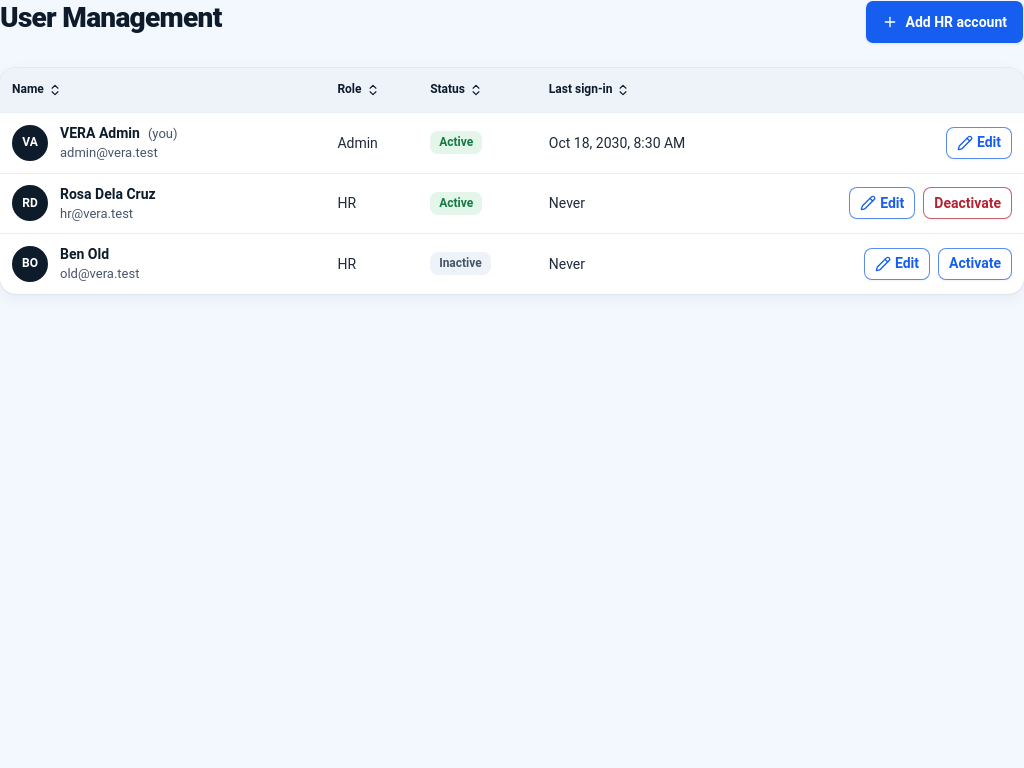
Add HR account › a 409 (email taken) is shown in the dialog
This screenshot has width=1024, height=768.
Click the button "Add HR account".
click(944, 22)  # box [864,0,1023,44]
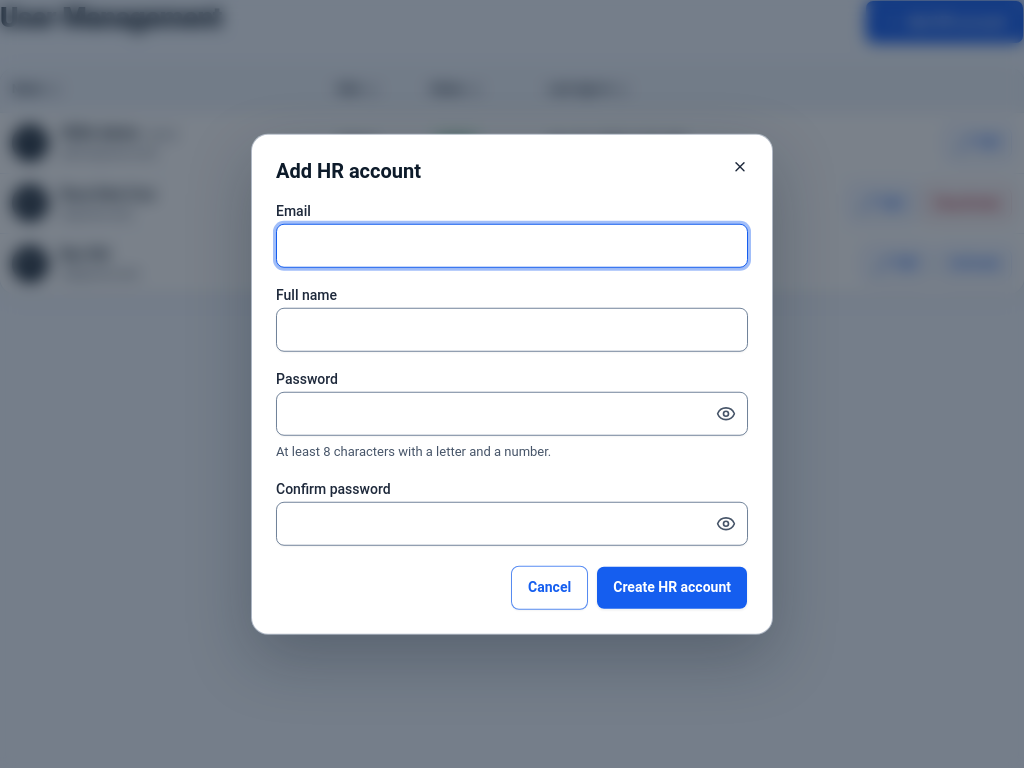
Type "hr@vera.test" into the field labelled "Email".
click(512, 246); type("hr@vera.test")  # box [276,224,748,268]
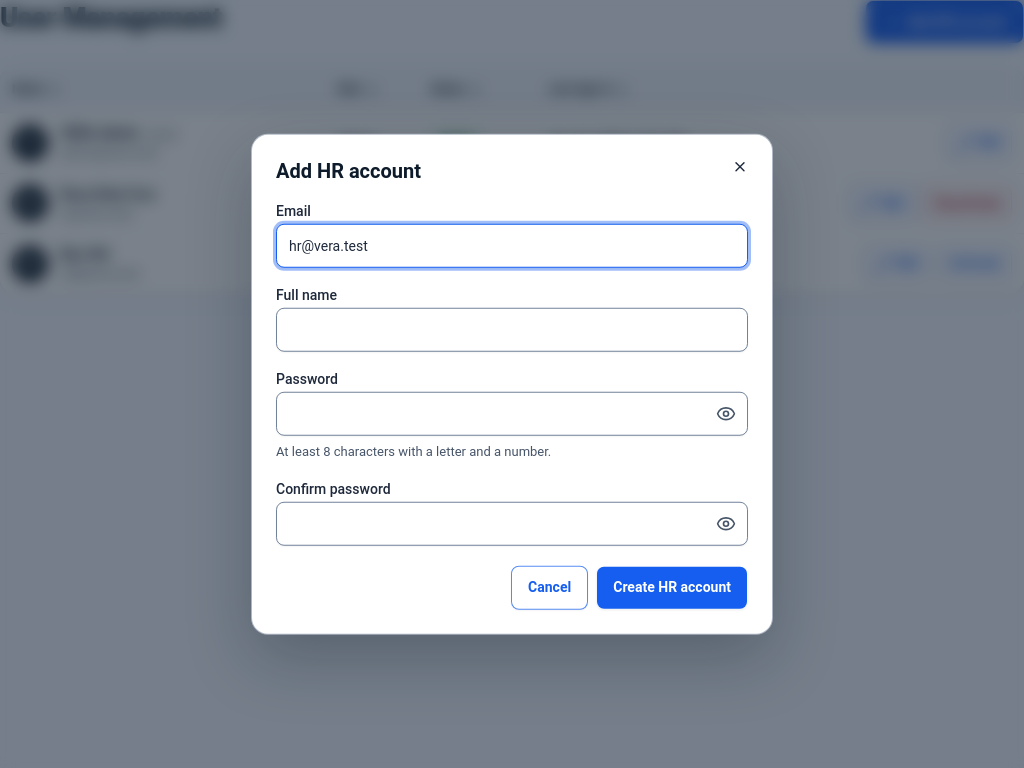
Type "Dup" into the field labelled "Full name".
click(512, 330); type("Dup")  # box [276,308,748,352]
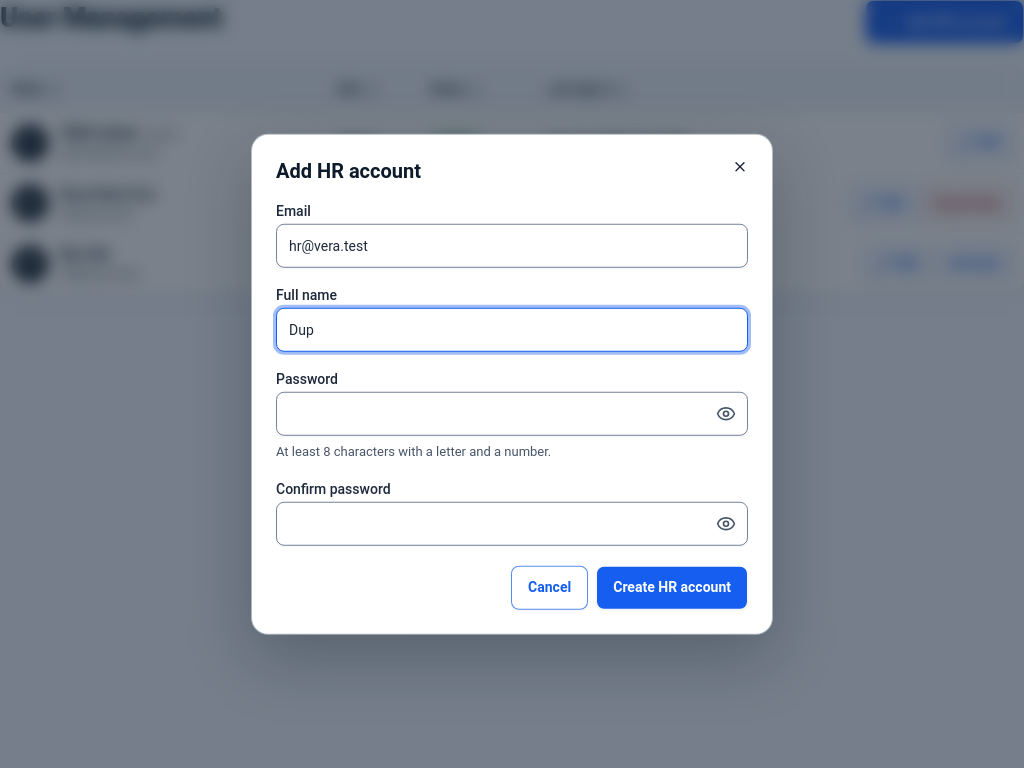
Type "Temp1234" into the password field labelled "Password".
click(512, 414); type("Temp1234")  # box [276,392,748,436]
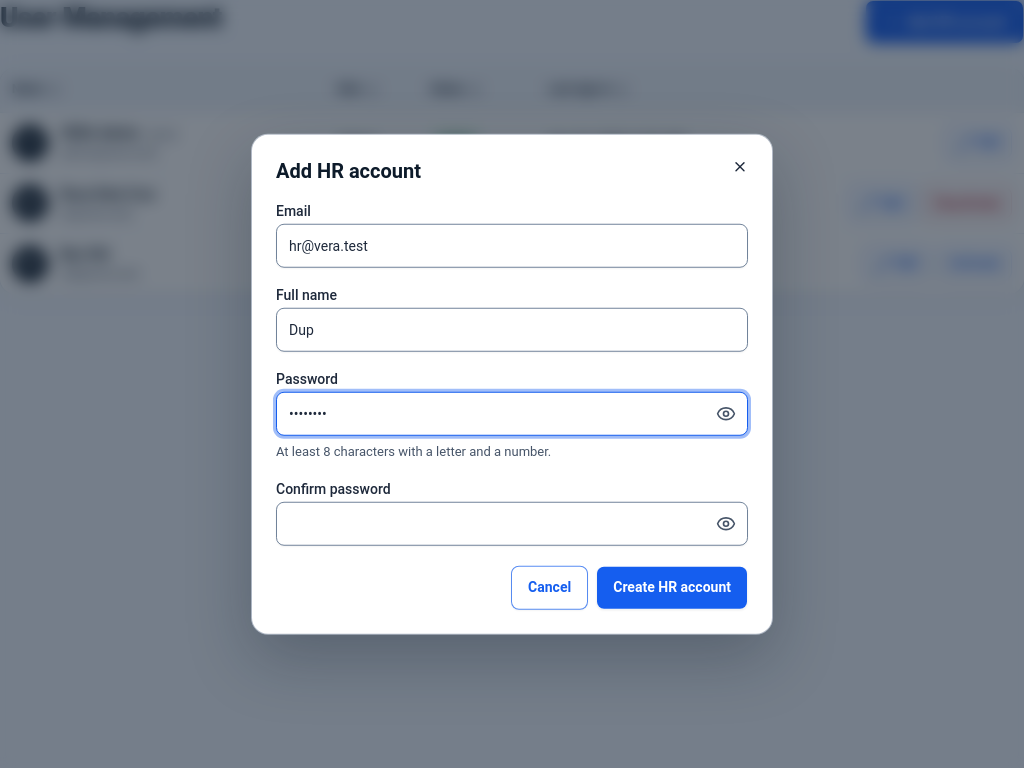
Type "Temp1234" into the password field labelled "Confirm password".
click(512, 523); type("Temp1234")  # box [276,501,748,545]
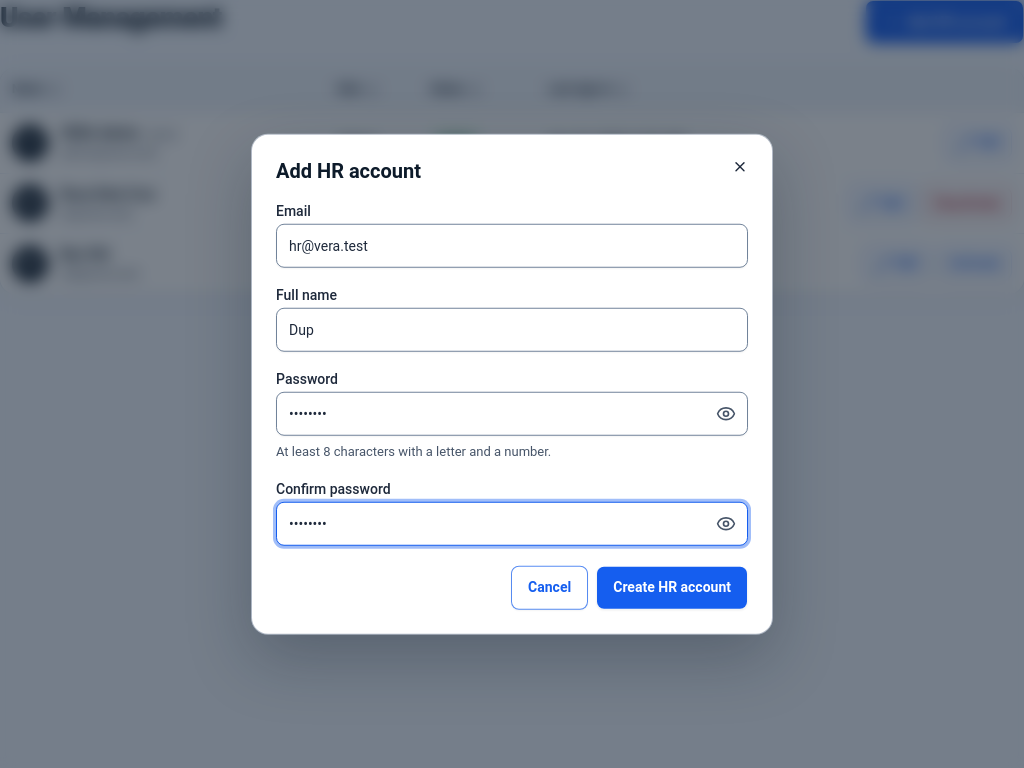
Click the button "Create HR account".
click(672, 587)  # box [596,565,748,609]
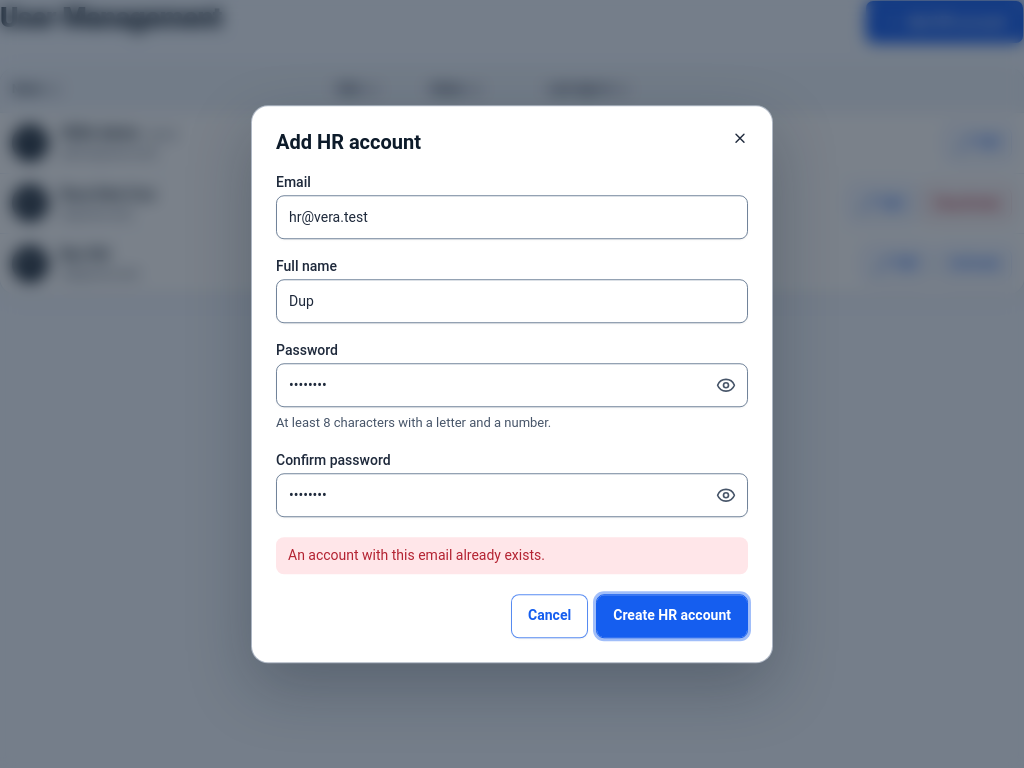
Now the message reads "An account with this email already exists.", box [288,547,545,563]
